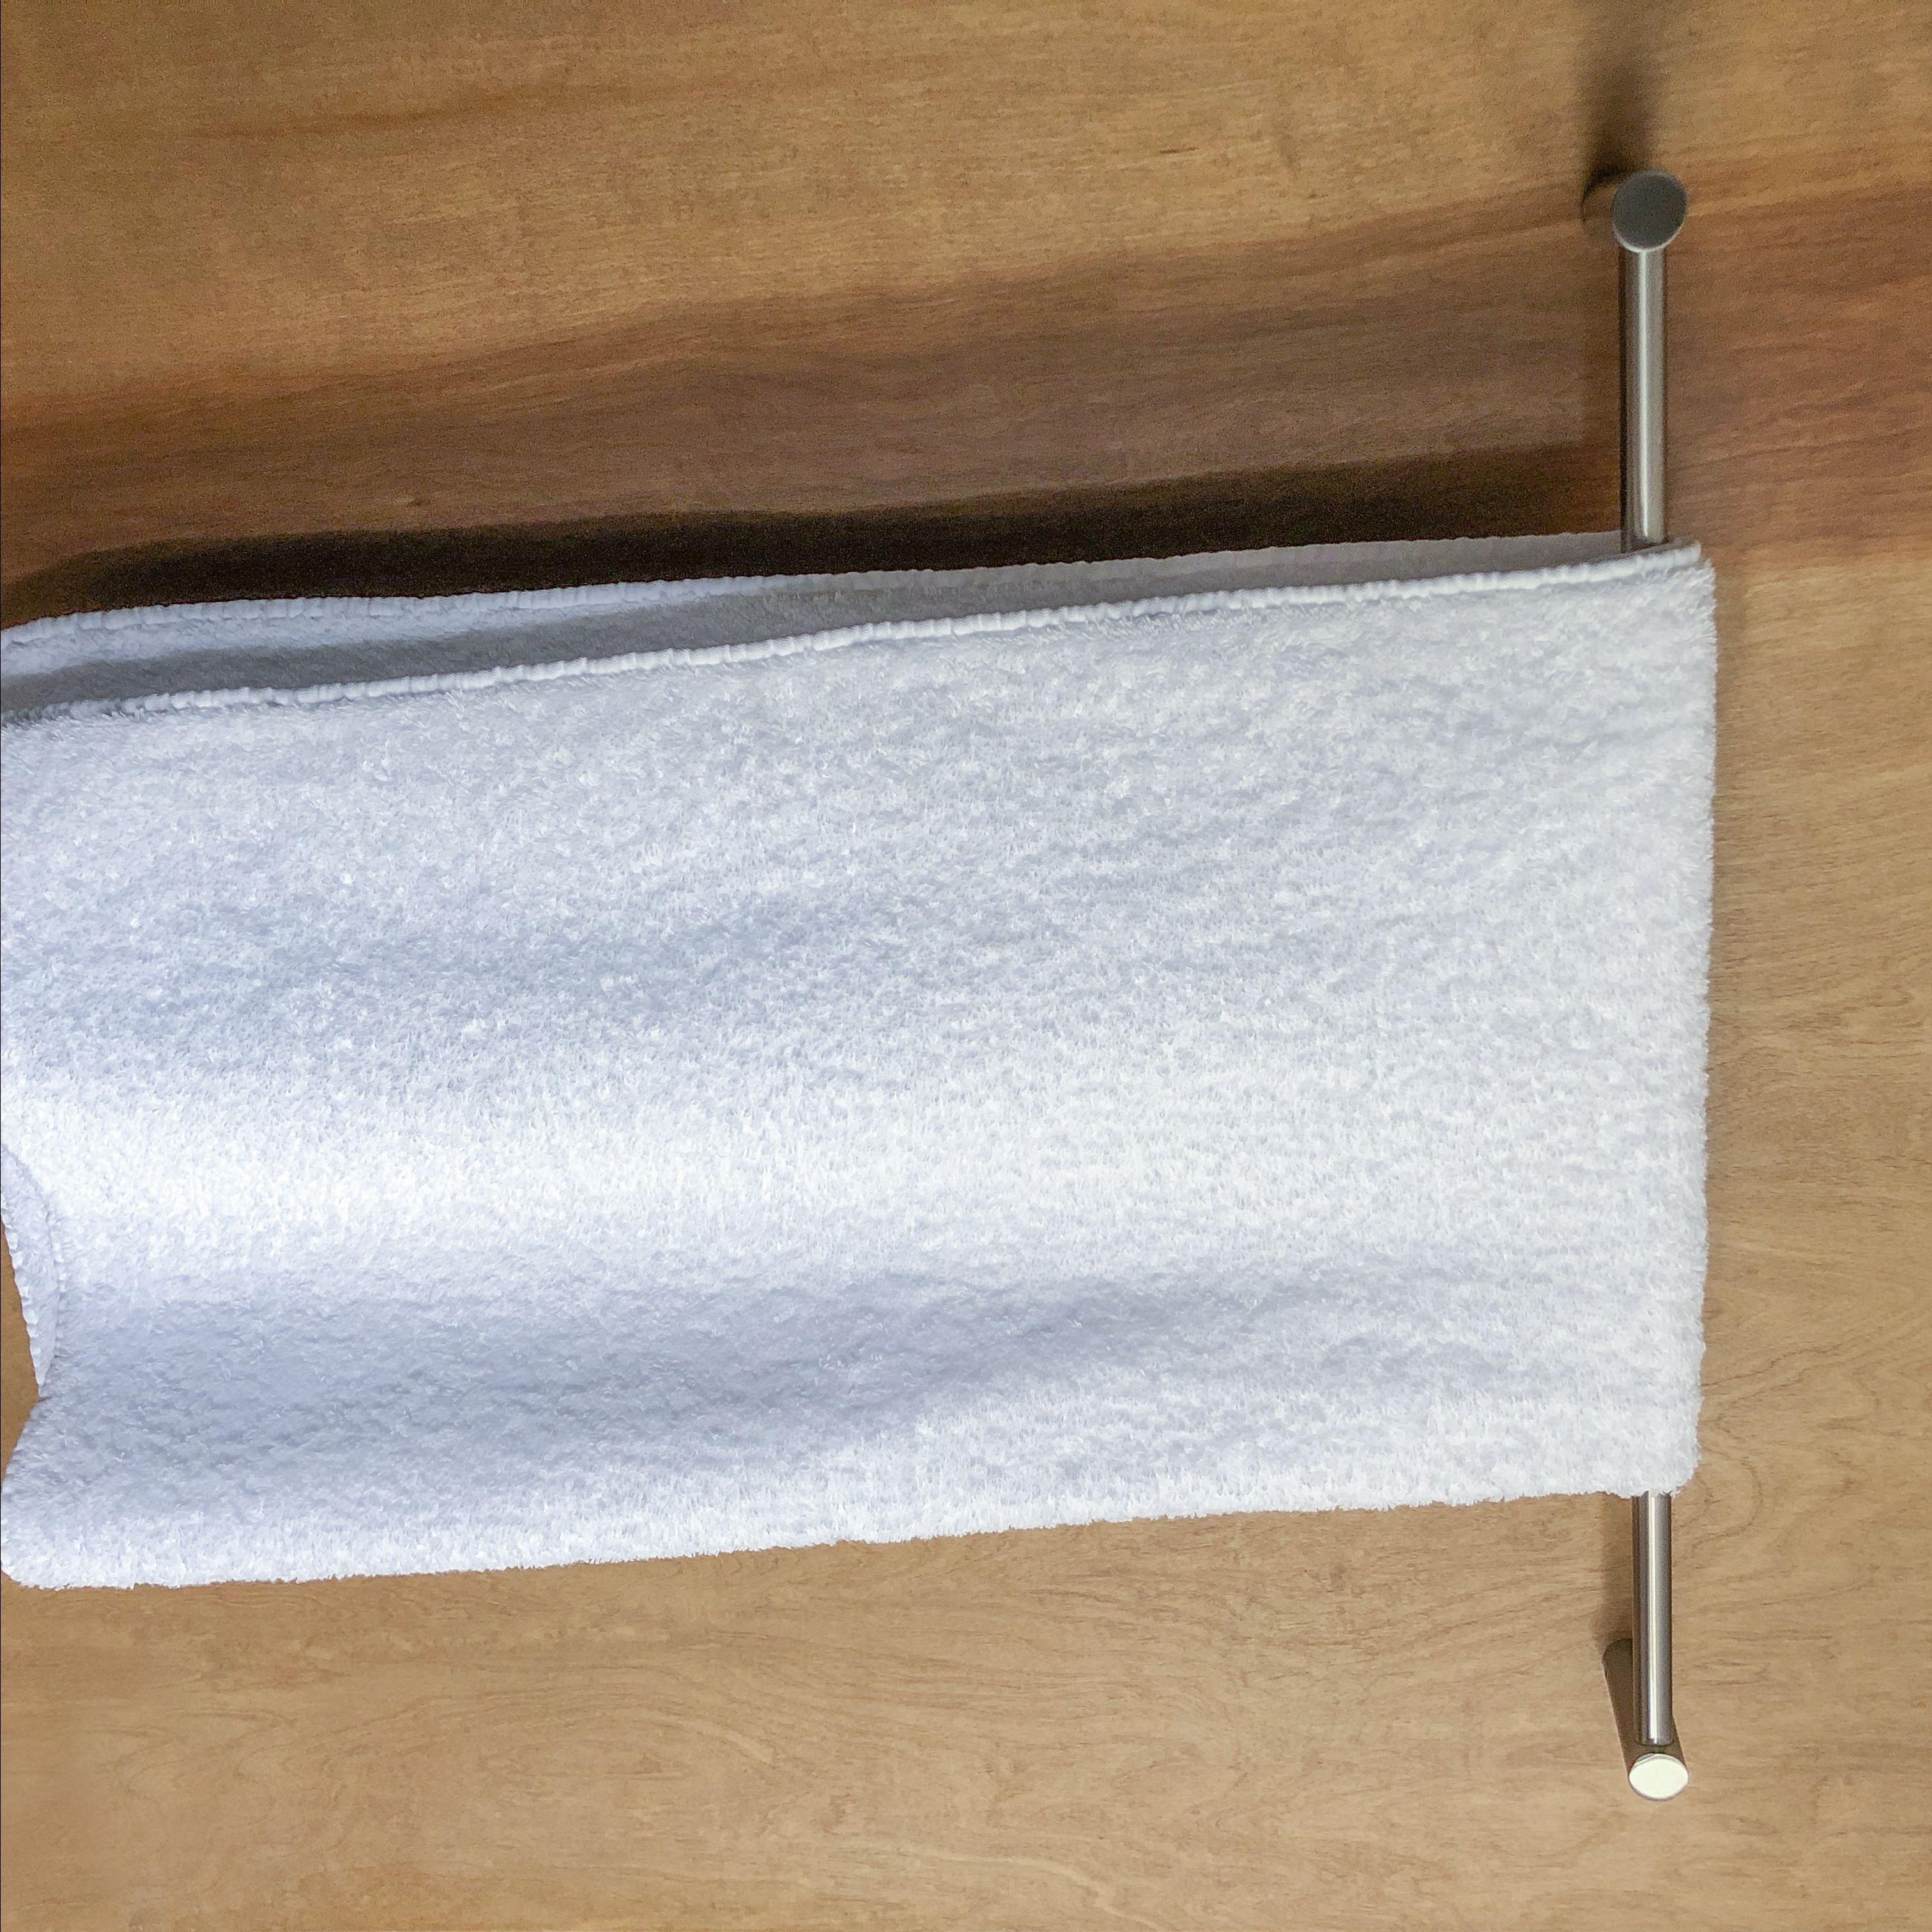towel: (0, 453, 1796, 1617)
